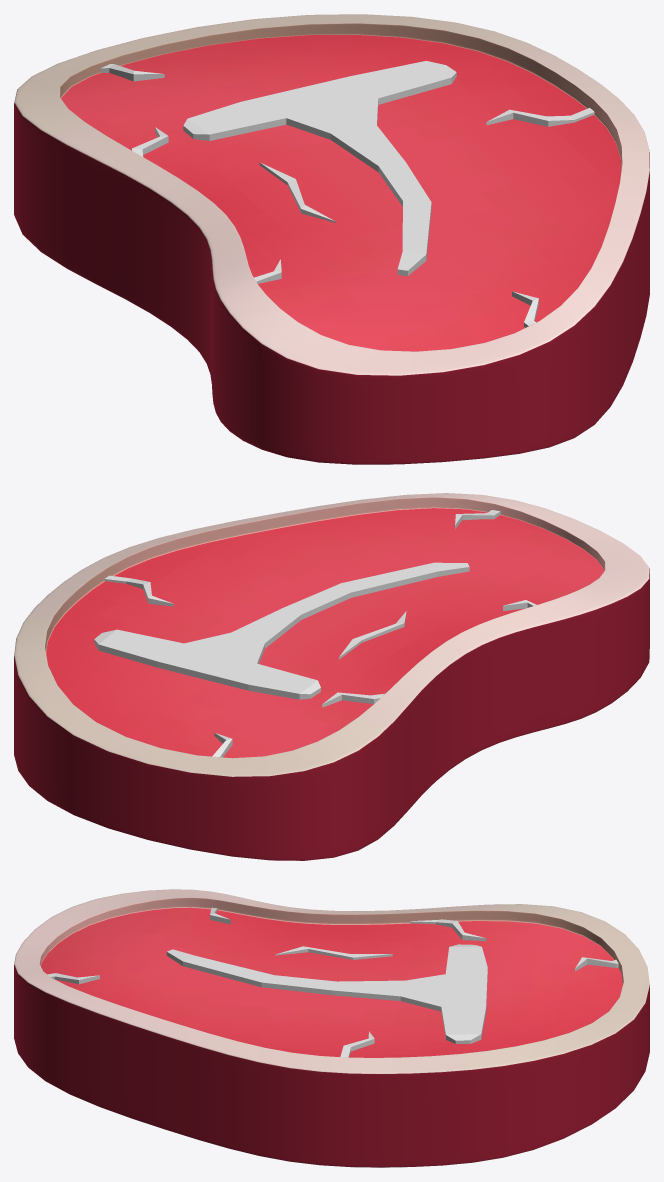
File: meat 3.fbx
3 renders of one model, top to bottom at view 1: azimuth 30°, elevation 25°; view 2: azimuth 150°, elevation 25°; view 3: azimuth 270°, elevation 25°, orthographic. The views are drawn at different scales.
Visible parts, largest first — view 1: Steak; view 2: Steak; view 3: Steak.
Part boxes in pixels (box(x1,y1,x2,y2)): Steak: box(14, 14, 649, 464); Steak: box(14, 493, 649, 860); Steak: box(14, 889, 649, 1167).
Bounding box in the file's own units: 130 × 33.89 × 187.
1 material, 1 textured.
